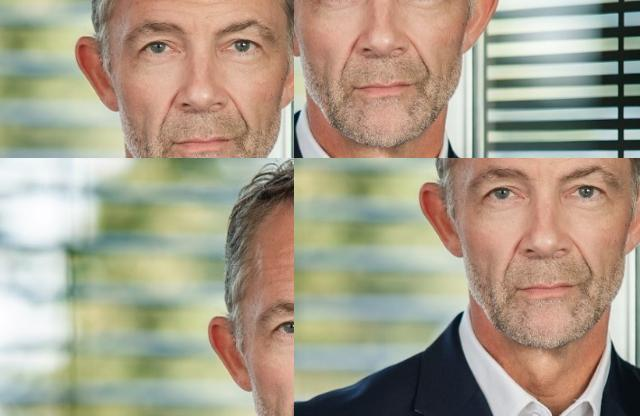crows_feet: (311, 24, 343, 62), (152, 79, 184, 109), (30, 264, 51, 288), (157, 260, 173, 288)
forehead: (96, 10, 146, 32), (30, 9, 72, 27), (123, 0, 158, 20), (0, 12, 15, 33), (91, 197, 115, 209), (42, 230, 62, 244), (116, 208, 136, 220), (83, 0, 115, 7), (70, 219, 86, 229)
gummy_smile: (569, 236, 595, 276), (502, 236, 524, 270), (46, 316, 59, 342), (146, 316, 160, 336)
masseter: (160, 297, 176, 335), (28, 301, 42, 335), (150, 342, 168, 368)
sad_smile: (315, 112, 343, 152)
